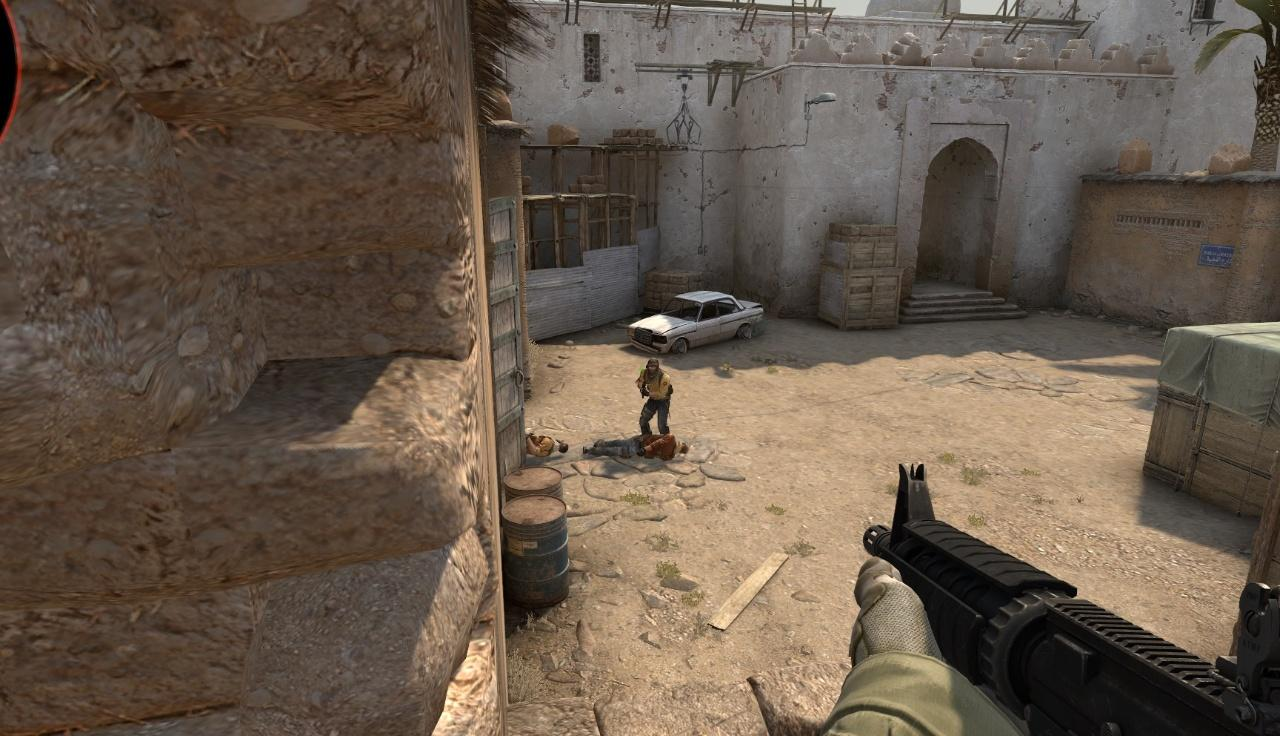rifle: (863, 466, 1280, 736)
tt: (638, 358, 671, 435)
tthead: (646, 359, 660, 375)
